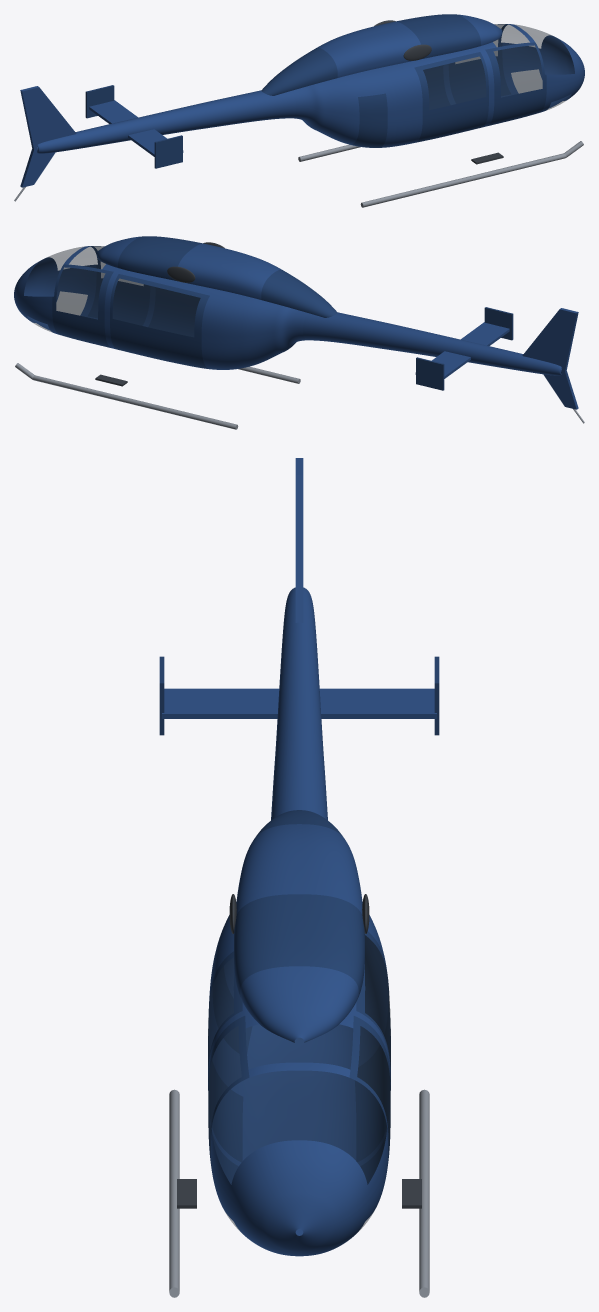
File: heli_407.glb
3 views of the same model, one above another, from view 1: azimuth 30°, elevation 25°; view 2: azimuth 150°, elevation 25°; view 3: azimuth 270°, elevation 25° (orthographic). The views are drawn at different scales.
Parts seen in each view (by area): view 1: cone_cauda, fuselagem, fus_traseira, carenagem_motor, porta_pax_R, deriva, porta_pax_R.001, carenagem_trans, porta_trip_R, porta_trip_R.001, carenagem_escape, porta_trip_L (+12 smaller); view 2: fus_traseira, cone_cauda, fuselagem, porta_pax_L, porta_pax_L.001, carenagem_motor, deriva, carenagem_trans, porta_trip_L, porta_trip_L.001, carenagem_escape, porta_pax_R (+11 smaller); view 3: fuselagem, nariz, parabrisa, carenagem_trans, cone_cauda, carenagem_motor, estabilizador, fus_traseira, carenagem_diant, porta_pax_L, janelas, porta_pax_R (+10 smaller).
Part boxes in pixels (left/top/right/bottom): cone_cauda: left=37, top=90, right=295, bottom=153; fuselagem: left=383, top=24, right=575, bottom=147; fus_traseira: left=292, top=67, right=396, bottom=147; carenagem_motor: left=317, top=21, right=422, bottom=77; porta_pax_R: left=414, top=52, right=488, bottom=142; deriva: left=20, top=86, right=76, bottom=187; porta_pax_R.001: left=423, top=56, right=486, bottom=109; carenagem_trans: left=396, top=14, right=480, bottom=58; porta_trip_R: left=485, top=42, right=546, bottom=125; porta_trip_R.001: left=493, top=45, right=542, bottom=97; carenagem_escape: left=261, top=47, right=337, bottom=95; porta_trip_L: left=448, top=24, right=510, bottom=103; fus_traseira: left=202, top=289, right=306, bottom=369; cone_cauda: left=303, top=312, right=561, bottom=375; fuselagem: left=23, top=246, right=215, bottom=368; porta_pax_L: left=110, top=274, right=209, bottom=369; porta_pax_L.001: left=112, top=278, right=200, bottom=336; carenagem_motor: left=176, top=243, right=281, bottom=299; deriva: left=522, top=308, right=578, bottom=409; carenagem_trans: left=118, top=236, right=202, bottom=280; porta_trip_L: left=52, top=264, right=113, bottom=347; porta_trip_L.001: left=56, top=267, right=105, bottom=319; carenagem_escape: left=261, top=269, right=337, bottom=317; porta_pax_R: left=148, top=287, right=200, bottom=337; fuselagem: left=208, top=931, right=390, bottom=1238; nariz: left=230, top=1140, right=368, bottom=1256; parabrisa: left=212, top=1071, right=386, bottom=1230; carenagem_trans: left=234, top=894, right=364, bottom=997; cone_cauda: left=271, top=587, right=327, bottom=820; carenagem_motor: left=236, top=824, right=362, bottom=914; estabilizador: left=162, top=688, right=436, bottom=718; fus_traseira: left=211, top=915, right=387, bottom=1075; carenagem_diant: left=240, top=966, right=358, bottom=1042; porta_pax_L: left=354, top=931, right=390, bottom=1162; janelas: left=246, top=1024, right=352, bottom=1068; porta_pax_R: left=208, top=951, right=243, bottom=1162.
Size of the model in its own units: 10.5 by 2.99 by 2.24.
